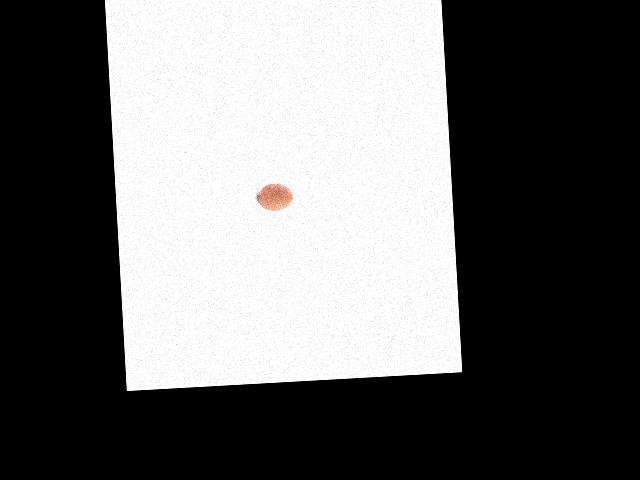egg: (257, 181, 293, 211)
